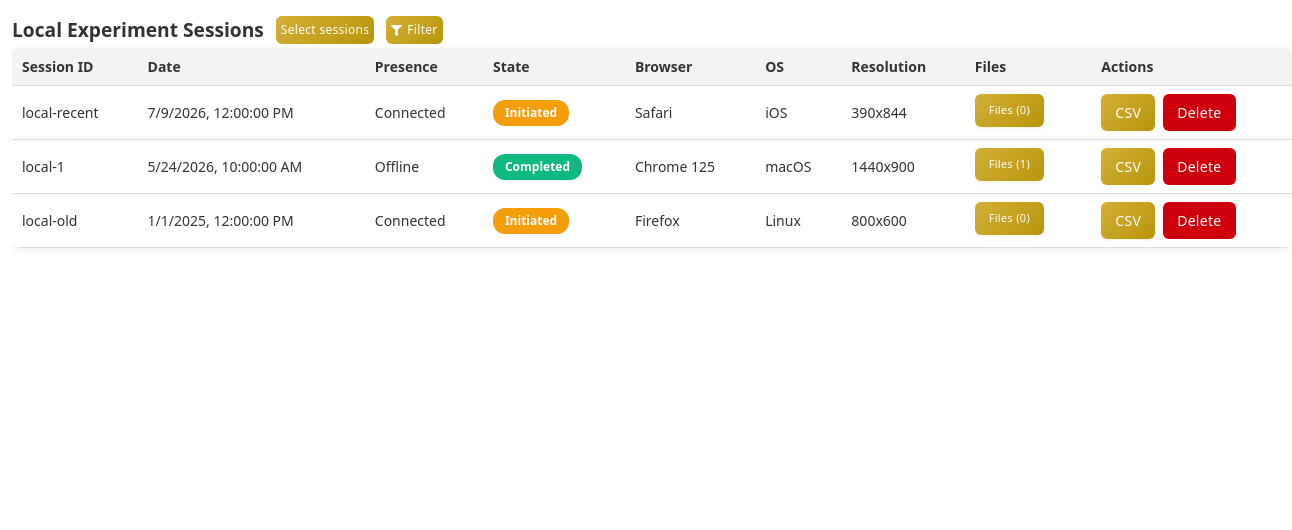
ResultsList container › filters local sessions by mismatched OS, resolution, and 90-day window
The image size is (1292, 530).
Expected: the text "local-1" is shown, 12,140 -> 138,194
Expected: the text "local-recent" is shown, 12,86 -> 138,140
Click the button "Filter" at (414, 30), box 386,16 -> 443,44
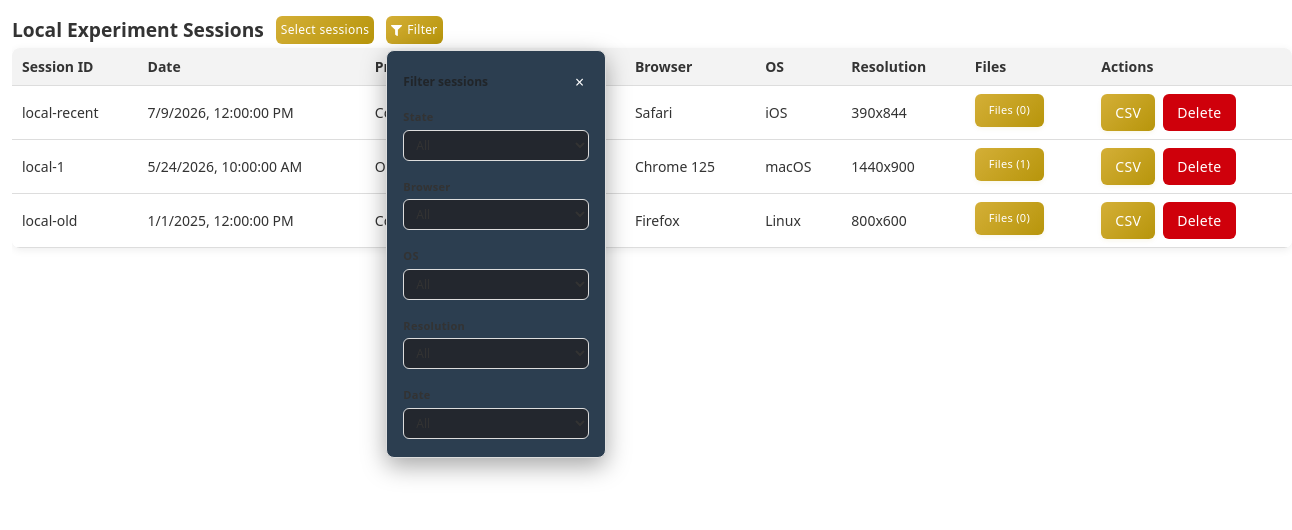
Select "iOS" in the dropdown labelled "OS" at (496, 284), box 403,268 -> 589,300
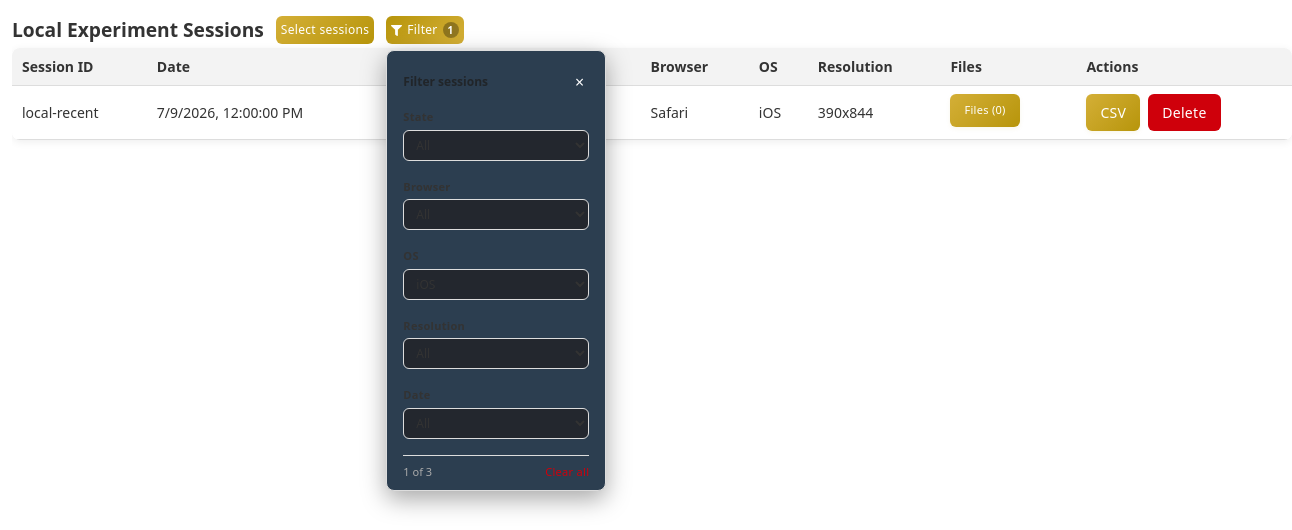
Expected: the text "local-recent" is shown, 12,86 -> 147,140
Result: the text "local-1" is gone
Click the button "Clear all" at (567, 472), box 545,464 -> 589,480
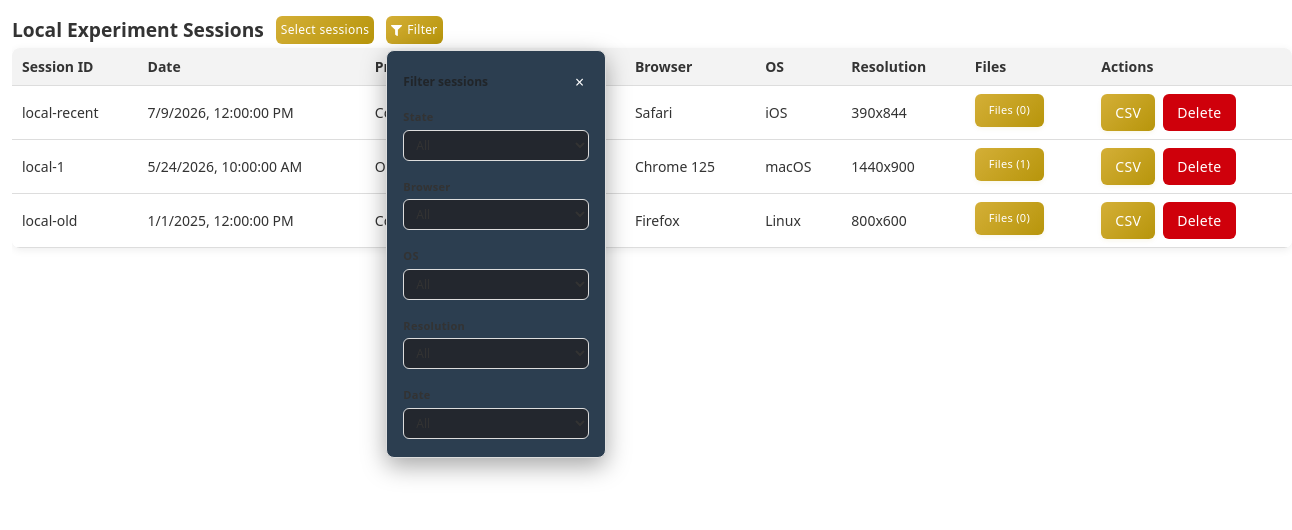
Select "390x844" in the dropdown labelled "Resolution" at (496, 354), box 403,338 -> 589,369
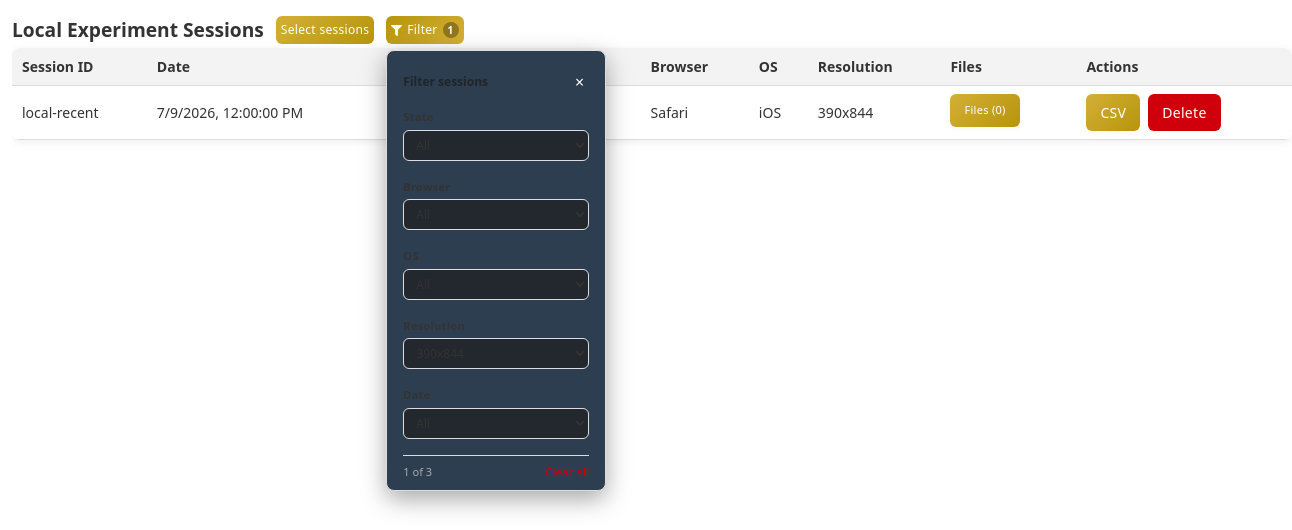
Expected: the text "local-recent" is shown, 12,86 -> 147,140
Result: the text "local-old" is gone
Click the button "Clear all" at (567, 472), box 545,464 -> 589,480
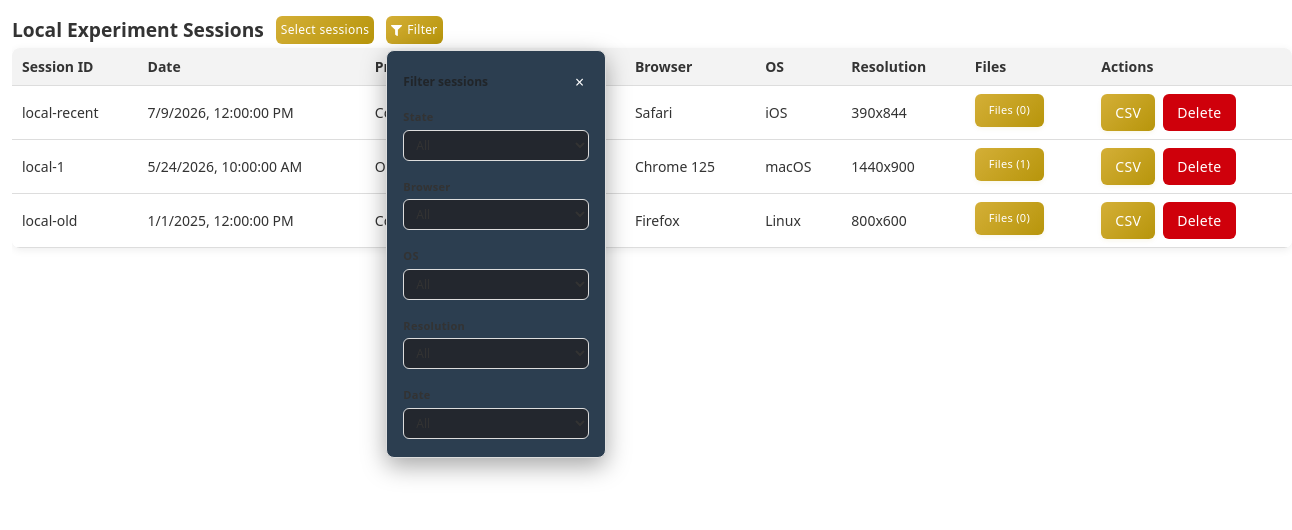
Select "Last 90 days" in the dropdown labelled "Date" at (496, 423), box 403,408 -> 589,438
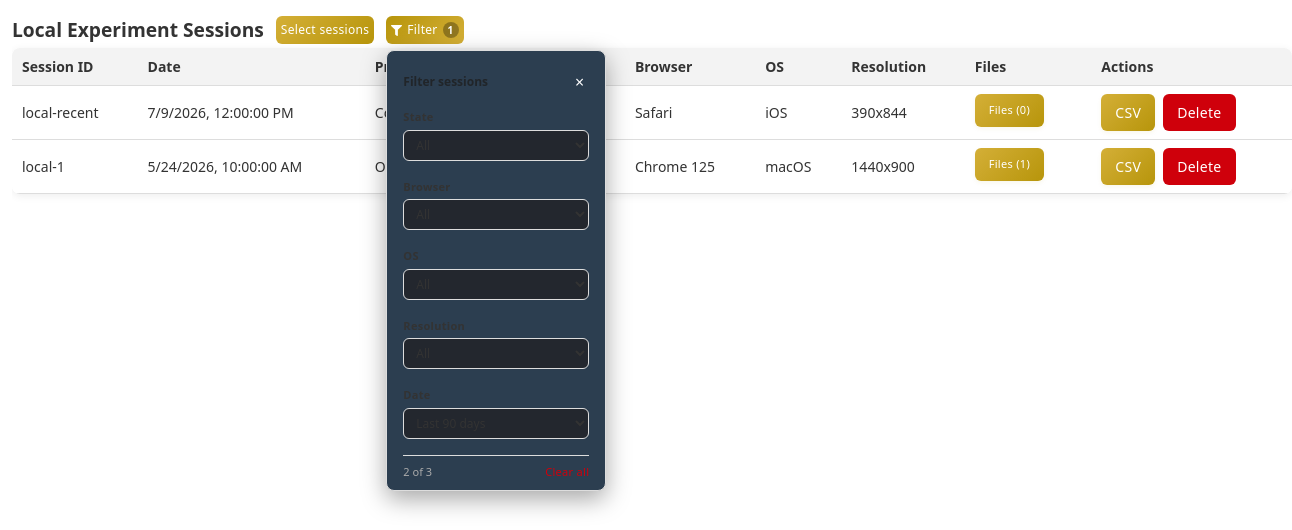
Expected: the text "local-recent" is shown, 12,86 -> 138,140
Result: the text "local-old" is gone
